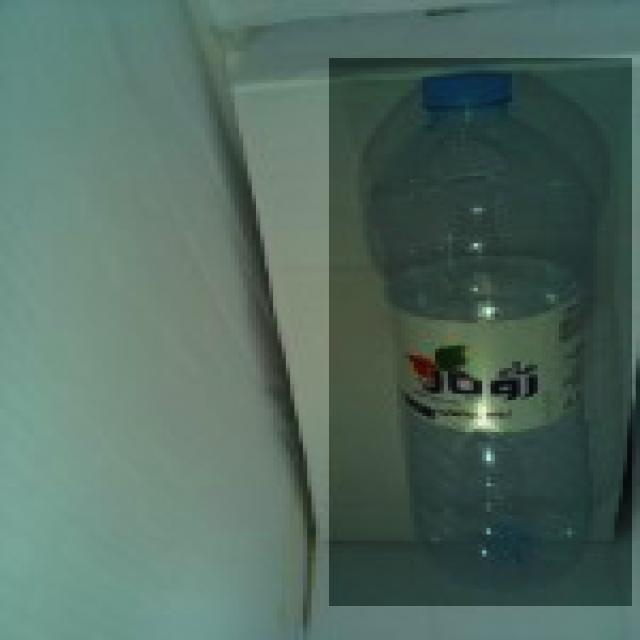bottle: (329, 58, 632, 606)
label: (388, 292, 594, 430)
